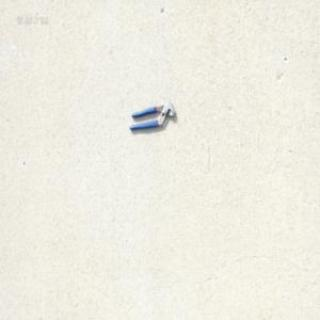Pliertrack_idkeyframe: (126, 100, 175, 132)
